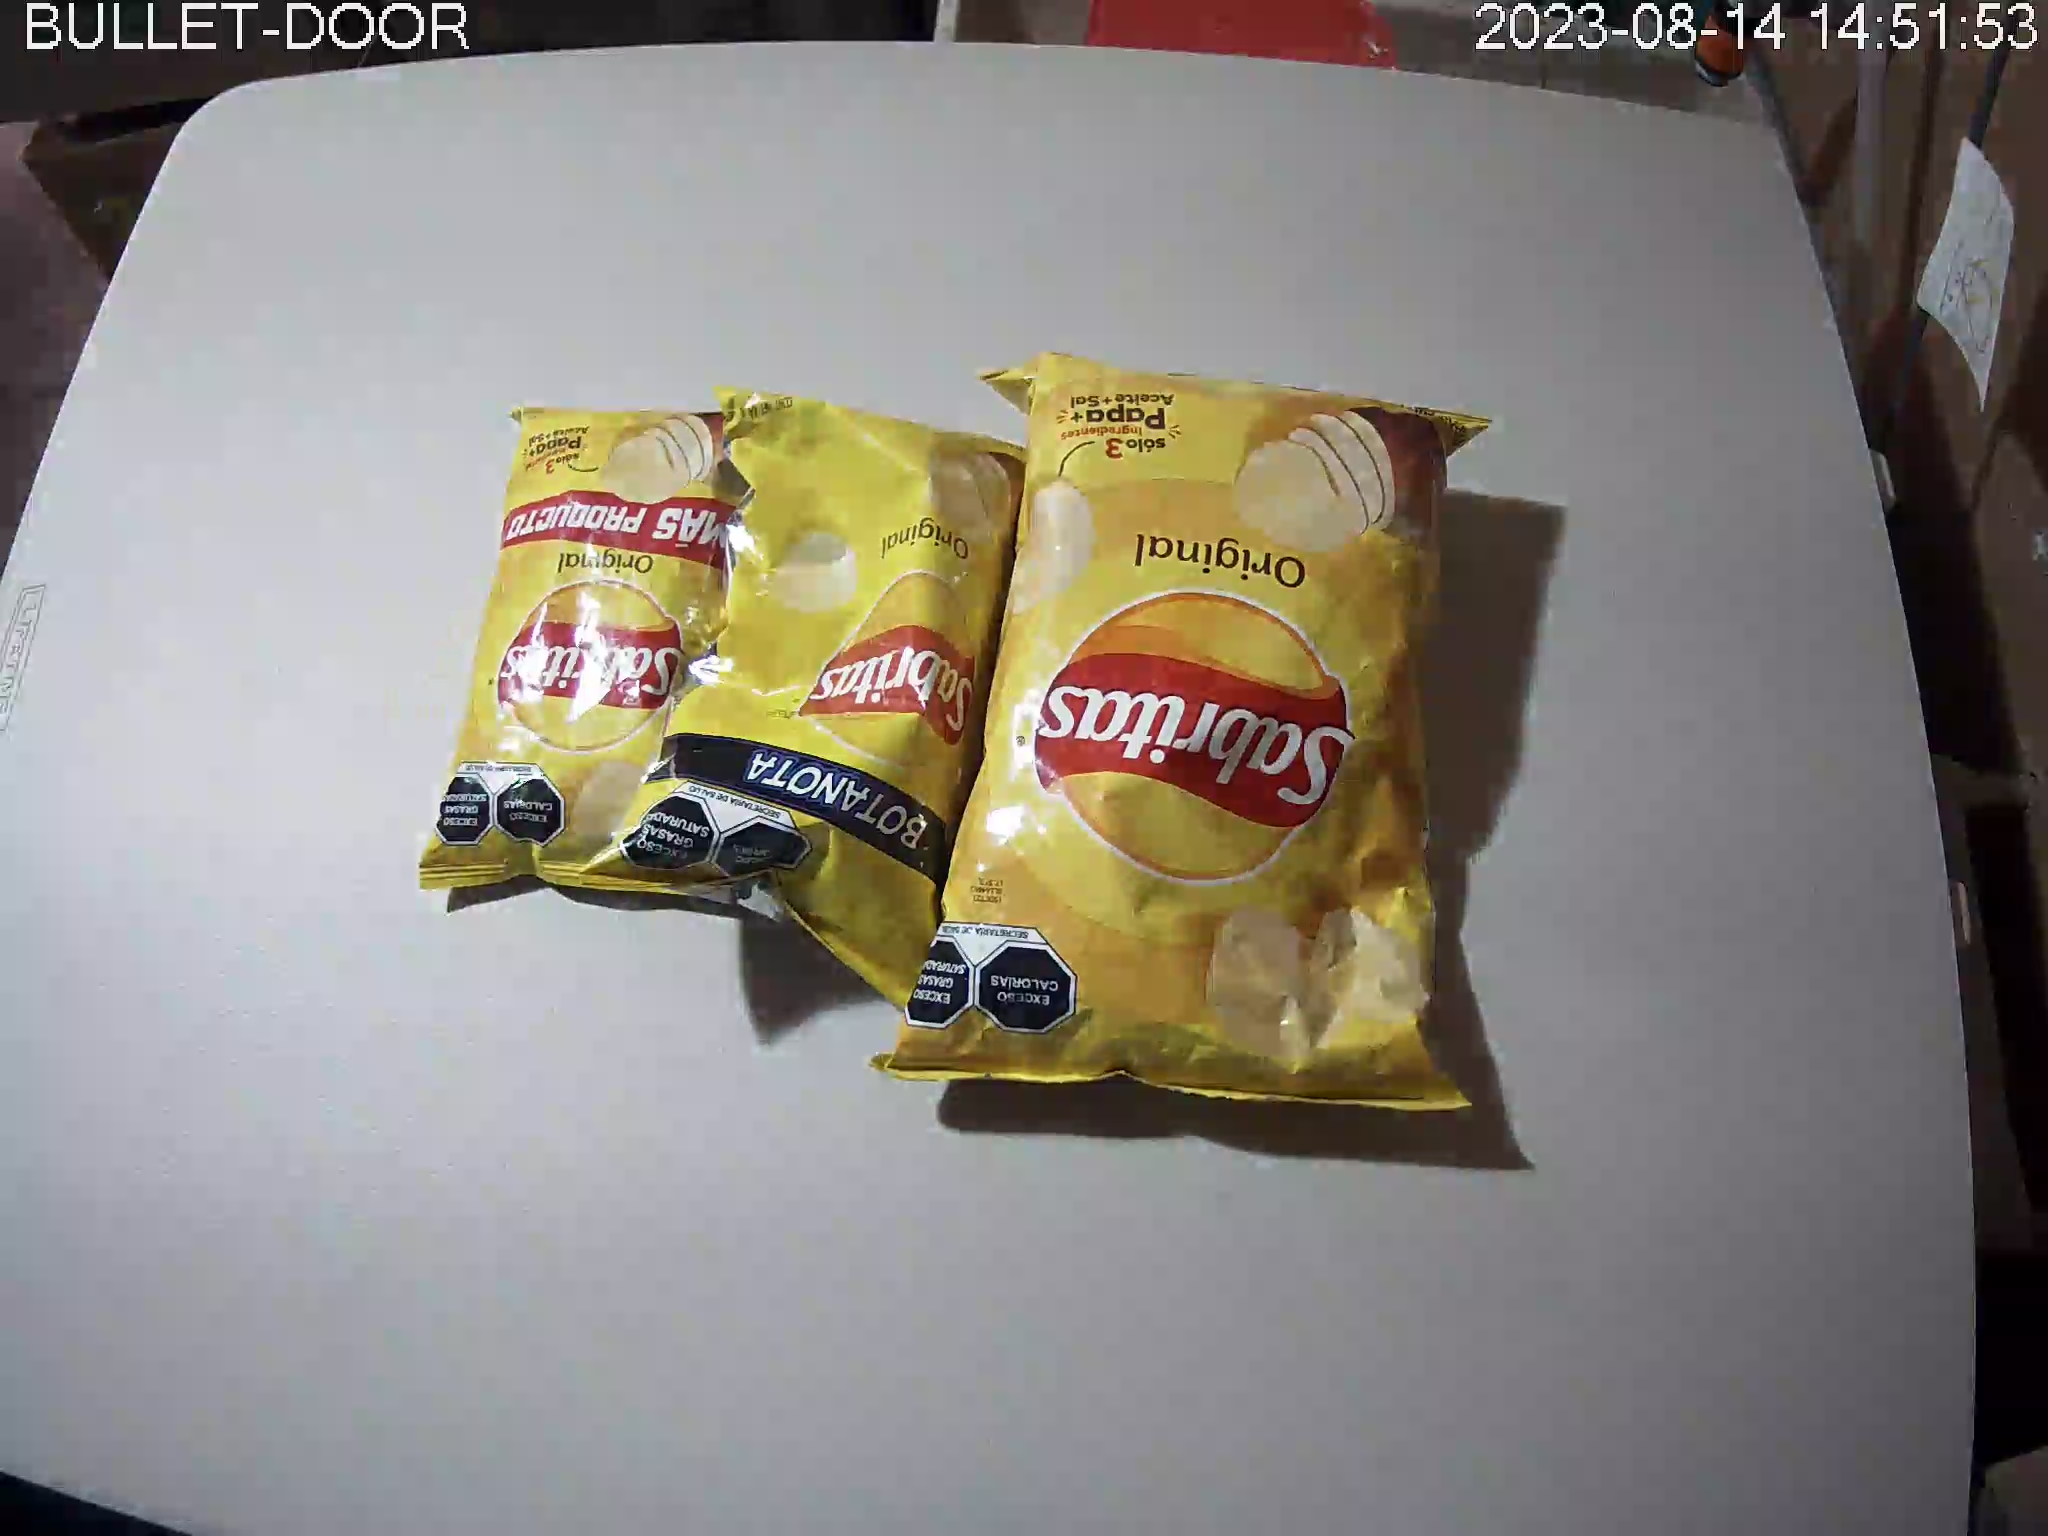Sabritas_160_F: (963, 353, 1496, 1117)
Sabritas_45_F: (418, 407, 727, 904)
Sabritas_64_F: (669, 379, 984, 1016)
